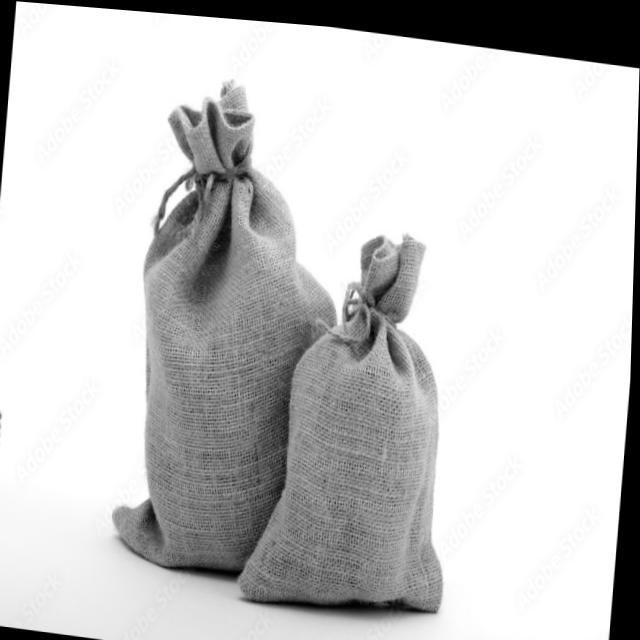sack: (110, 64, 358, 584), (241, 209, 473, 617)
